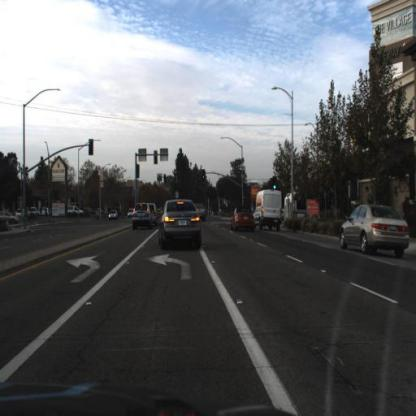car: (342, 207, 413, 258), (341, 205, 411, 256), (159, 200, 203, 251), (228, 205, 256, 234), (230, 207, 257, 233), (132, 204, 154, 233), (134, 204, 149, 228), (194, 198, 209, 222), (197, 206, 207, 224), (243, 206, 252, 223), (149, 205, 157, 224), (109, 210, 120, 223), (127, 210, 135, 218)
trafficLight: (87, 138, 95, 161), (151, 150, 159, 167), (137, 164, 141, 178)
trafficLight-Green: (201, 171, 209, 186), (272, 181, 279, 194), (174, 178, 180, 192), (164, 175, 168, 184)
truck: (253, 187, 284, 230), (253, 191, 285, 231)
